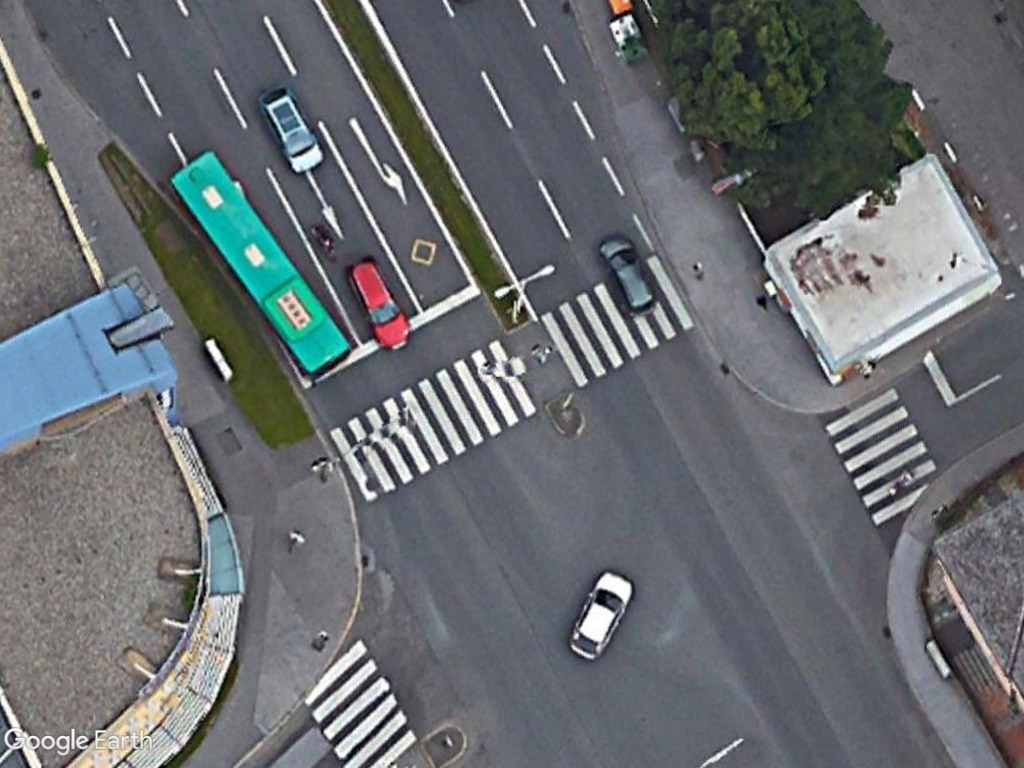bus: (163, 141, 357, 386)
car: (246, 75, 327, 178), (343, 254, 417, 354), (563, 565, 635, 664), (590, 230, 663, 321)
